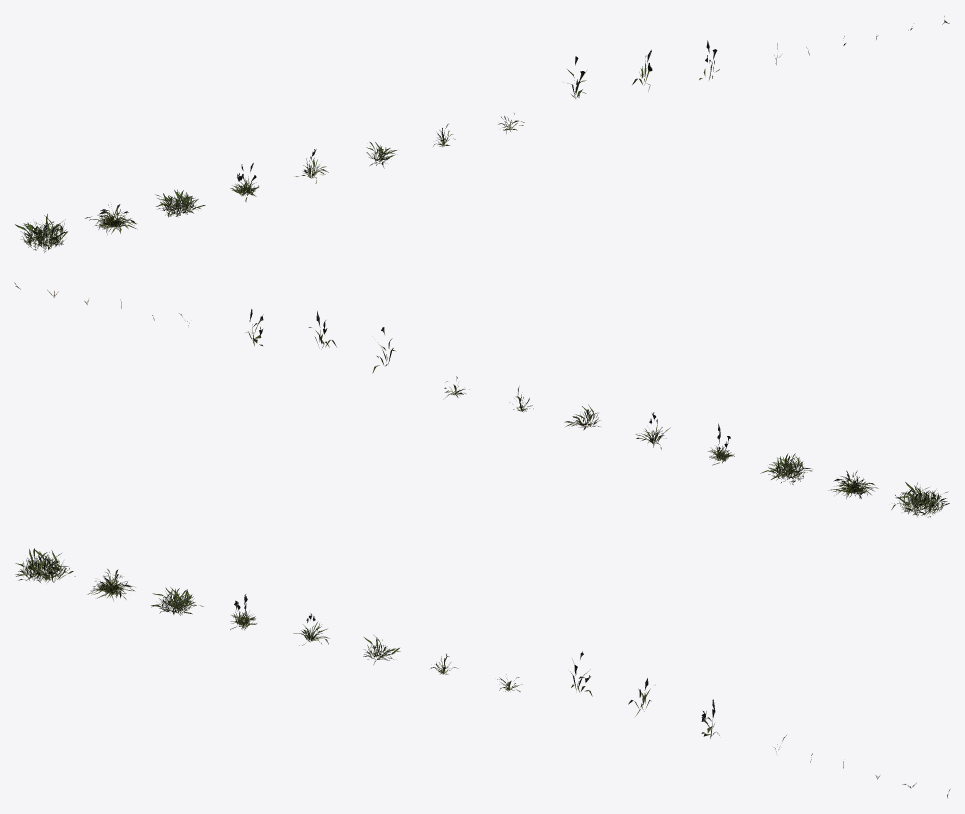
File: grass_medium_01.glb
3 renders of one model, top to bottom at view 1: azimuth 30°, elevation 25°; view 2: azimuth 150°, elevation 25°; view 3: azimuth 330°, elevation 25°, orthographic.
Parts seen in each view (by area): view 1: grass_medium_01_large_a_LOD0, grass_medium_01_large_c_LOD0, grass_medium_01_large_b_LOD0; view 2: grass_medium_01_large_a_LOD0, grass_medium_01_large_c_LOD0, grass_medium_01_large_b_LOD0; view 3: grass_medium_01_large_a_LOD0, grass_medium_01_large_c_LOD0, grass_medium_01_large_b_LOD0.
Part boxes in pixels (left/top/right/bottom): grass_medium_01_large_a_LOD0: left=15, top=214, right=67, bottom=252; grass_medium_01_large_c_LOD0: left=155, top=189, right=205, bottom=217; grass_medium_01_large_b_LOD0: left=85, top=204, right=137, bottom=234; grass_medium_01_large_a_LOD0: left=891, top=482, right=949, bottom=517; grass_medium_01_large_c_LOD0: left=760, top=453, right=811, bottom=484; grass_medium_01_large_b_LOD0: left=828, top=470, right=878, bottom=498; grass_medium_01_large_a_LOD0: left=15, top=548, right=75, bottom=582; grass_medium_01_large_c_LOD0: left=151, top=587, right=203, bottom=615; grass_medium_01_large_b_LOD0: left=87, top=569, right=135, bottom=600.
Size of the model in its own units: 5.59 by 0.3382 by 0.3266.
1 material, 1 textured.
